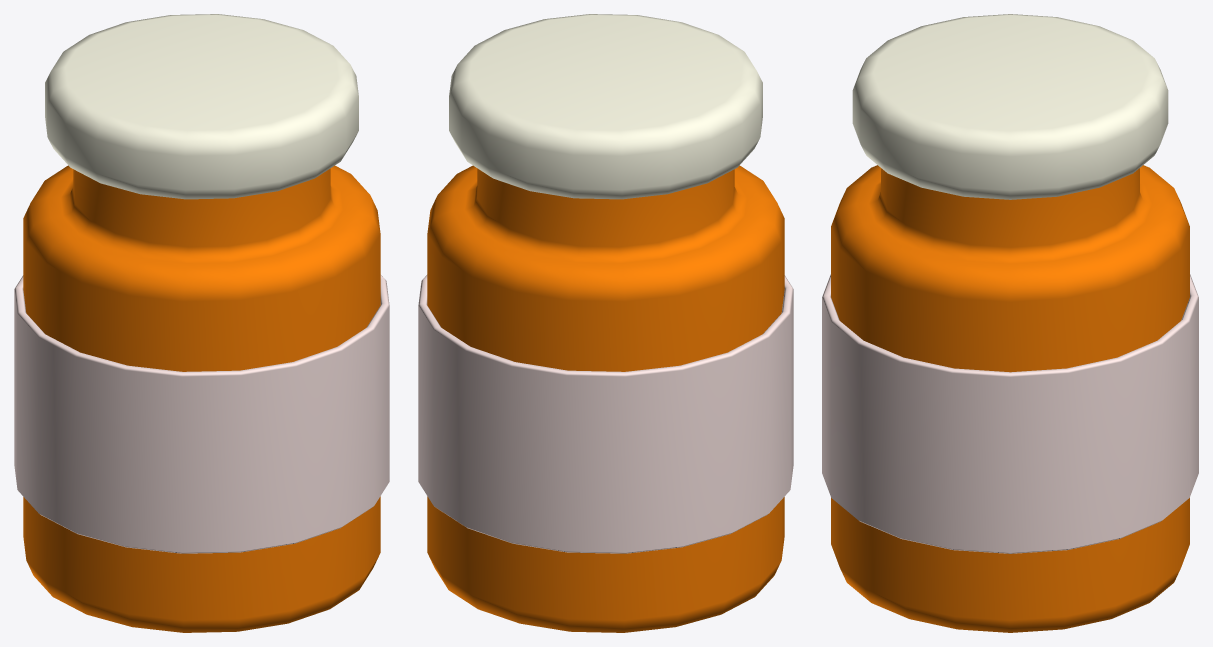
File: Farm_17_Bottle_1.glb
3 views of the same model, side by side, from view 1: azimuth 30°, elevation 25°; view 2: azimuth 150°, elevation 25°; view 3: azimuth 270°, elevation 25° (orthographic).
Parts seen in each view (by area): view 1: Farm_17_Bottle_1; view 2: Farm_17_Bottle_1; view 3: Farm_17_Bottle_1.
Boxes of the visible parts, x1,y1,x2,y2 form: Farm_17_Bottle_1: [14, 14, 389, 632]; Farm_17_Bottle_1: [418, 14, 793, 632]; Farm_17_Bottle_1: [822, 14, 1198, 632].
Size of the model in its own units: 0.2265 by 0.3273 by 0.2265.
1 material, 1 textured.
